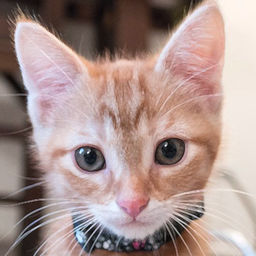cat: (11, 10, 234, 248)
